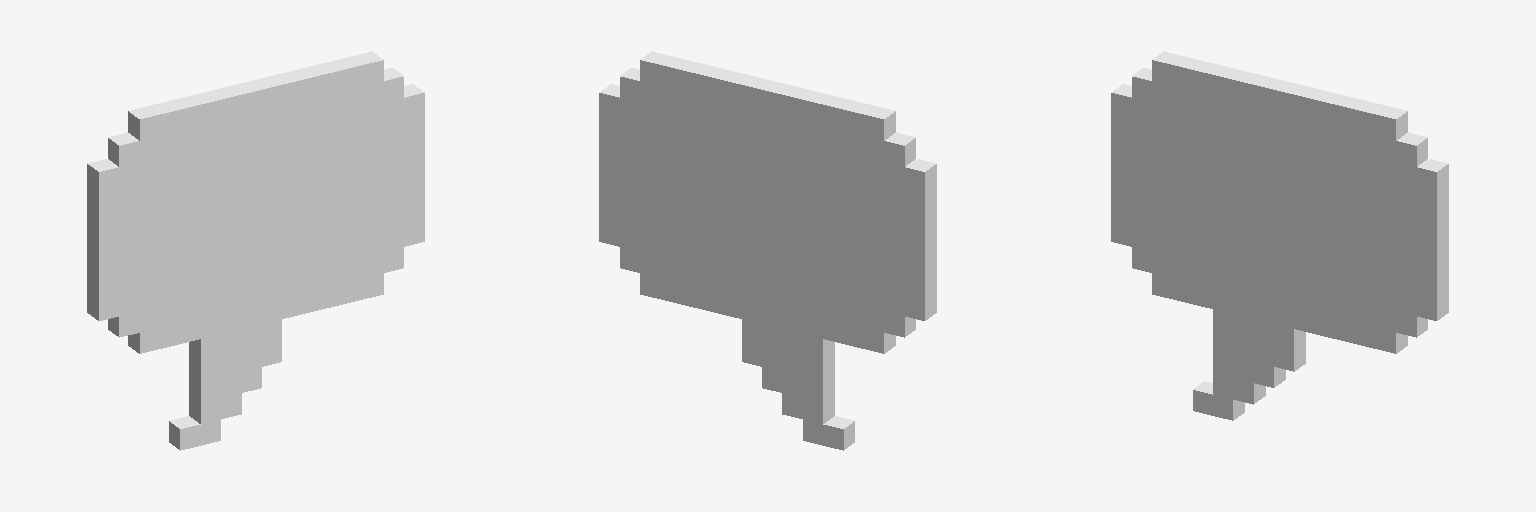
The model's file is context_bubble.obj.
3 renders of one model, left to right at view 1: azimuth 30°, elevation 25°; view 2: azimuth 150°, elevation 25°; view 3: azimuth 330°, elevation 25°, orthographic.
Visible parts, largest first — view 1: object 1; view 2: object 1; view 3: object 1.
Boxes of the visible parts, box(x1,y1,x2,y2) form: object 1: box(87, 51, 424, 450); object 1: box(599, 51, 936, 450); object 1: box(1111, 51, 1448, 420).
Size of the model in its own units: 1.6 by 1.6 by 0.1.